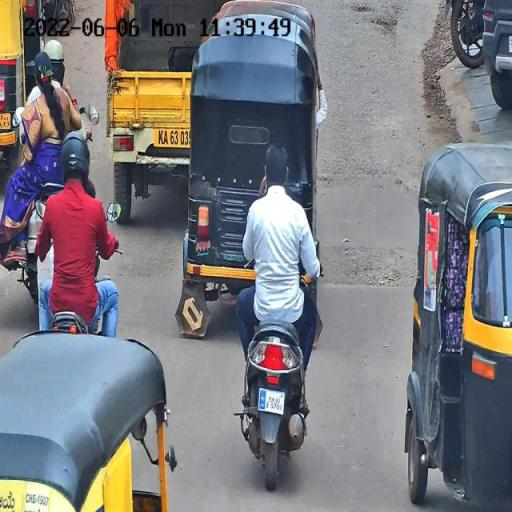using mobile: (262, 162, 270, 198)
